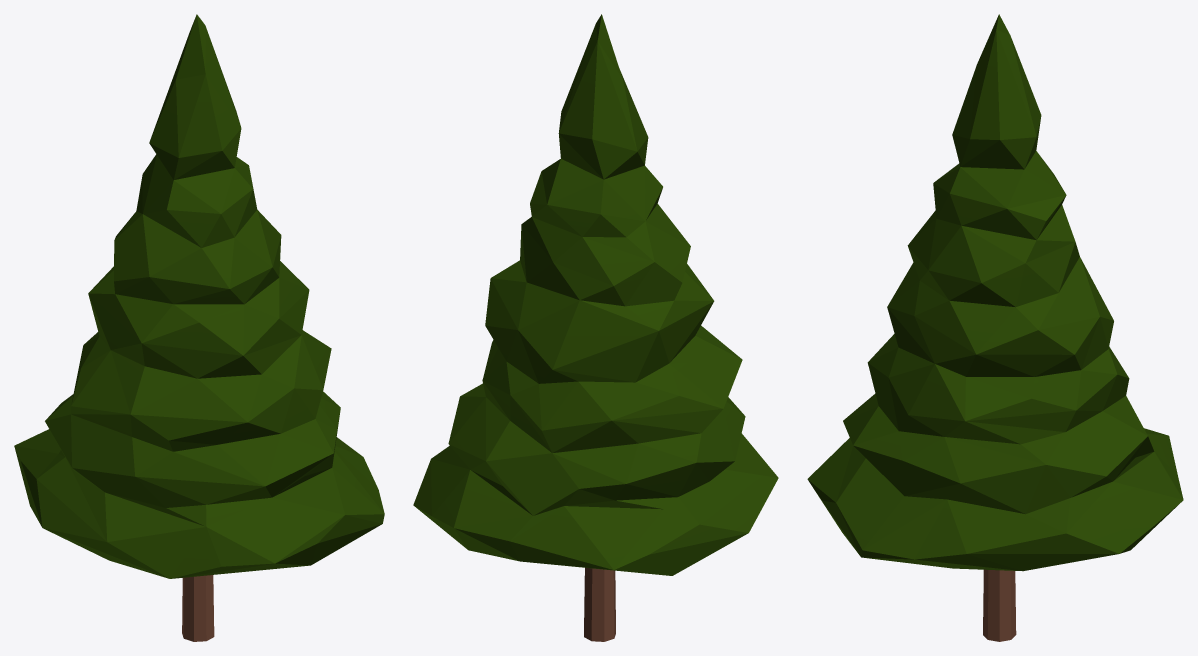
File: Pine_B.glb
3 renders of one model, left to right at view 1: azimuth 30°, elevation 25°; view 2: azimuth 150°, elevation 25°; view 3: azimuth 270°, elevation 25°, orthographic.
Parts seen in each view (by area): view 1: Pine_B_LOD0; view 2: Pine_B_LOD0; view 3: Pine_B_LOD0.
Part boxes in pixels (x1,y1,x2,y2): Pine_B_LOD0: (14,14,384,641); Pine_B_LOD0: (413,14,778,641); Pine_B_LOD0: (807,14,1183,641).
Size of what is drawn, in the model's own units: 4.3 by 8.47 by 4.66.
